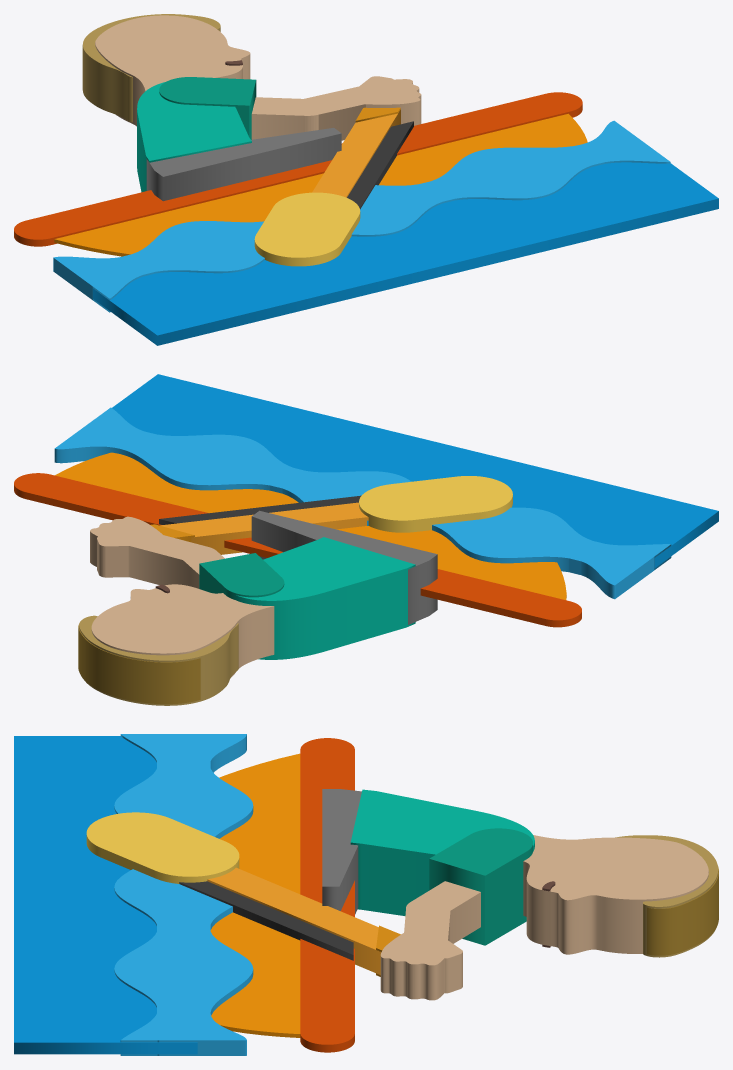
File: emoji_u1f6a3_1f3fc_200d_2642.glb
3 views of the same model, one above another, from view 1: azimuth 30°, elevation 25°; view 2: azimuth 150°, elevation 25°; view 3: azimuth 270°, elevation 25° (orthographic). The views are drawn at different scales.
Parts seen in each view (by area): view 1: emoji_u1f6a3_1f3fc_200d_2642; view 2: emoji_u1f6a3_1f3fc_200d_2642; view 3: emoji_u1f6a3_1f3fc_200d_2642.
Part boxes in pixels (box(x1,y1,x2,y2)): emoji_u1f6a3_1f3fc_200d_2642: box(14, 14, 718, 345); emoji_u1f6a3_1f3fc_200d_2642: box(14, 374, 718, 705); emoji_u1f6a3_1f3fc_200d_2642: box(14, 734, 718, 1055).
Bounding box in the file's own units: 0.0338 × 0.0036 × 0.0329.
